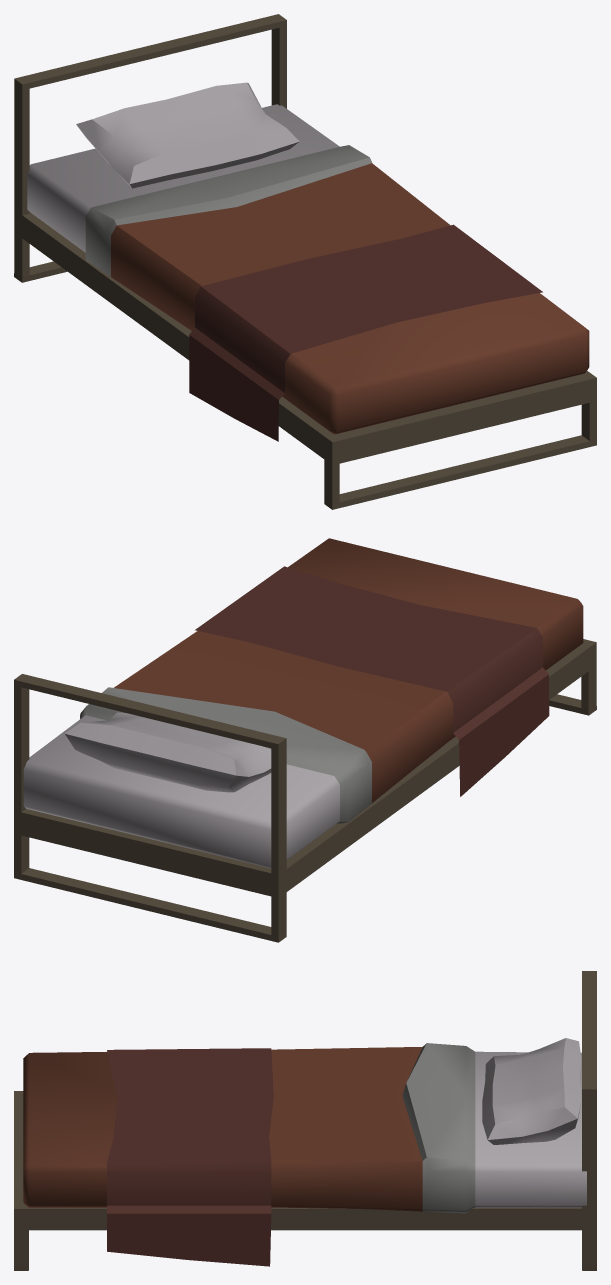
File: quaternius-house-interior-bed-single.glb
3 renders of one model, top to bottom at view 1: azimuth 30°, elevation 25°; view 2: azimuth 150°, elevation 25°; view 3: azimuth 270°, elevation 25°, orthographic. The views are drawn at different scales.
Parts seen in each view (by area): view 1: Bed_Single; view 2: Bed_Single; view 3: Bed_Single.
Part boxes in pixels (x1,y1,x2,y2): Bed_Single: (14,14,596,509); Bed_Single: (14,538,596,942); Bed_Single: (14,971,596,1270).
Bounding box in the file's own units: 1.98 × 1.35 × 3.94.
1 material, 1 textured.
